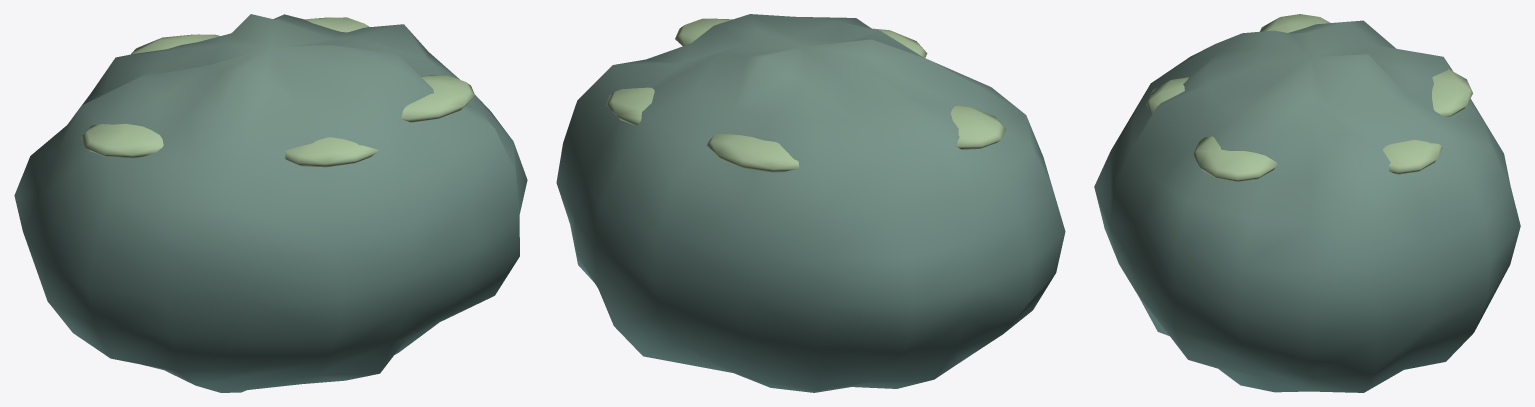
The model's file is reef_rock_1.glb.
3 renders of one model, left to right at view 1: azimuth 30°, elevation 25°; view 2: azimuth 150°, elevation 25°; view 3: azimuth 270°, elevation 25°, orthographic. The views are drawn at different scales.
Parts seen in each view (by area): view 1: reef_rock_1_painted_mesh; view 2: reef_rock_1_painted_mesh; view 3: reef_rock_1_painted_mesh.
Boxes of the visible parts, x1,y1,x2,y2 form: reef_rock_1_painted_mesh: (14, 14, 527, 392); reef_rock_1_painted_mesh: (556, 14, 1065, 392); reef_rock_1_painted_mesh: (1094, 14, 1520, 392).
Bounding box in the file's own units: 2.01 × 1.38 × 1.71.
